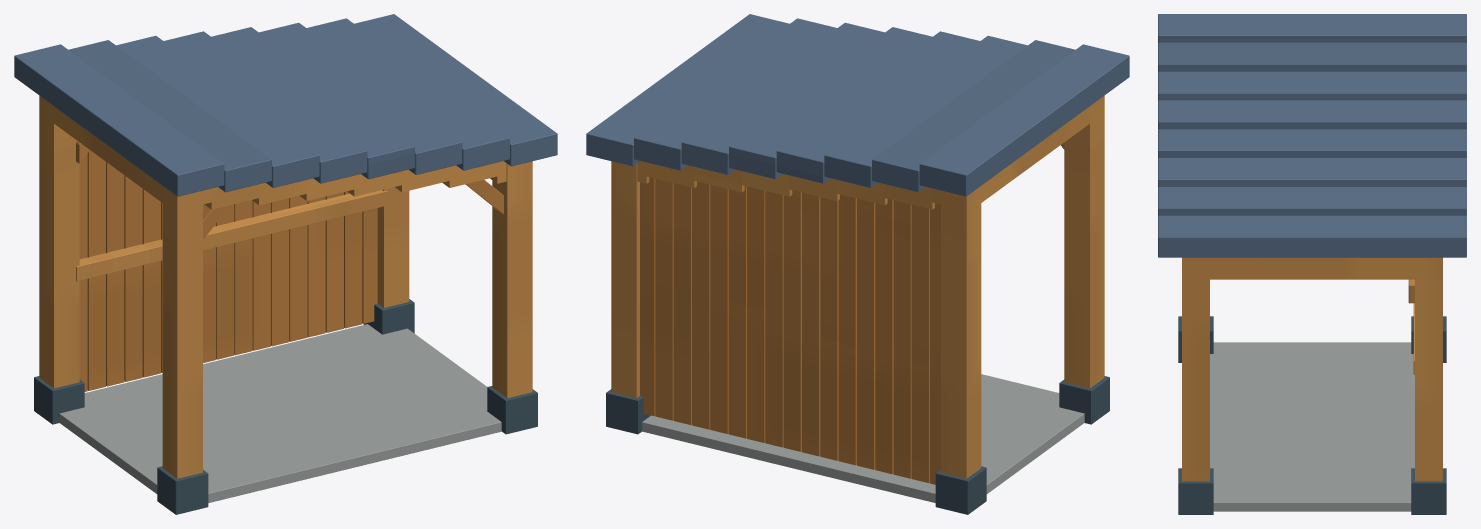
The model's file is SM_VMF_Building_ToolShelter.fbx.
3 views of the same model, side by side, from view 1: azimuth 30°, elevation 25°; view 2: azimuth 150°, elevation 25°; view 3: azimuth 270°, elevation 25° (orthographic). The views are drawn at different scales.
Parts seen in each view (by area): view 1: SM_VMF_Building_ToolShelter_Roof, SM_VMF_Building_ToolShelter_Foundation, SM_VMF_Building_ToolShelter_BackWall, SM_VMF_Building_ToolShelter_SupportFrame, SM_VMF_Building_ToolShelter_PostFeet, SM_VMF_Building_ToolShelter_KneeBraces; view 2: SM_VMF_Building_ToolShelter_BackWall, SM_VMF_Building_ToolShelter_Roof, SM_VMF_Building_ToolShelter_SupportFrame, SM_VMF_Building_ToolShelter_Foundation, SM_VMF_Building_ToolShelter_PostFeet; view 3: SM_VMF_Building_ToolShelter_Roof, SM_VMF_Building_ToolShelter_Foundation, SM_VMF_Building_ToolShelter_SupportFrame, SM_VMF_Building_ToolShelter_PostFeet.
Boxes of the visible parts, left/top/right/bottom form: SM_VMF_Building_ToolShelter_Roof: left=14, top=14, right=557, bottom=196; SM_VMF_Building_ToolShelter_Foundation: left=59, top=324, right=501, bottom=502; SM_VMF_Building_ToolShelter_BackWall: left=76, top=150, right=387, bottom=391; SM_VMF_Building_ToolShelter_SupportFrame: left=39, top=95, right=532, bottom=478; SM_VMF_Building_ToolShelter_PostFeet: left=34, top=299, right=537, bottom=514; SM_VMF_Building_ToolShelter_KneeBraces: left=76, top=141, right=503, bottom=239; SM_VMF_Building_ToolShelter_BackWall: left=640, top=177, right=940, bottom=484; SM_VMF_Building_ToolShelter_Roof: left=586, top=14, right=1129, bottom=196; SM_VMF_Building_ToolShelter_SupportFrame: left=611, top=95, right=1104, bottom=478; SM_VMF_Building_ToolShelter_Foundation: left=642, top=374, right=1084, bottom=502; SM_VMF_Building_ToolShelter_PostFeet: left=606, top=376, right=1109, bottom=514; SM_VMF_Building_ToolShelter_Roof: left=1158, top=14, right=1466, bottom=257; SM_VMF_Building_ToolShelter_Foundation: left=1210, top=342, right=1414, bottom=511; SM_VMF_Building_ToolShelter_SupportFrame: left=1182, top=257, right=1442, bottom=481; SM_VMF_Building_ToolShelter_PostFeet: left=1178, top=316, right=1446, bottom=514.
Bounding box in the file's own units: 328 × 288 × 244.
1 material, 1 textured.
